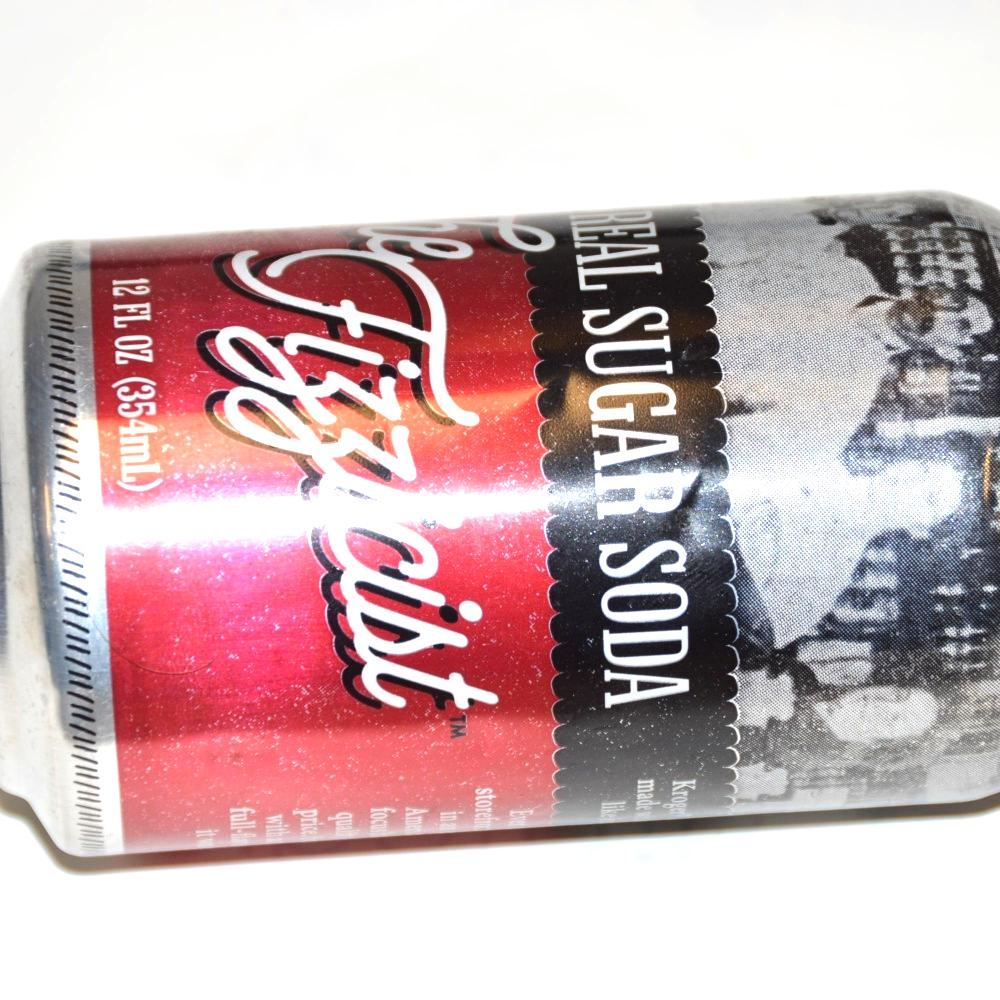Metal: (1, 213, 1000, 858)
